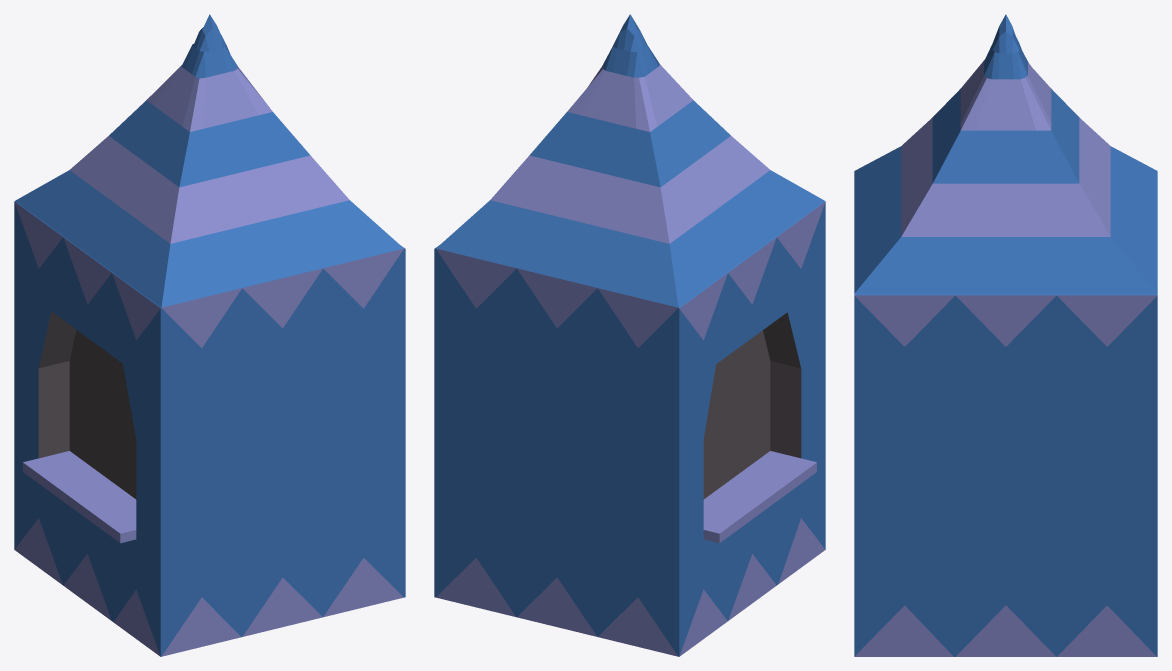
The model's file is tent.fbx.
The picture shows the model from 3 angles, left to right: view 1: azimuth 30°, elevation 25°; view 2: azimuth 150°, elevation 25°; view 3: azimuth 270°, elevation 25°; orthographic projection. The views are drawn at different scales.
Parts seen in each view (by area): view 1: Tent; view 2: Tent; view 3: Tent.
Part boxes in pixels (x1,y1,x2,y2): Tent: (14,14,405,656); Tent: (434,14,825,656); Tent: (854,14,1157,656).
Bounding box in the file's own units: 307 × 629 × 298.
